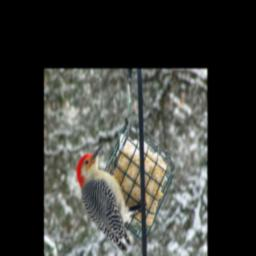Woodpecker: (76, 147, 144, 252)
